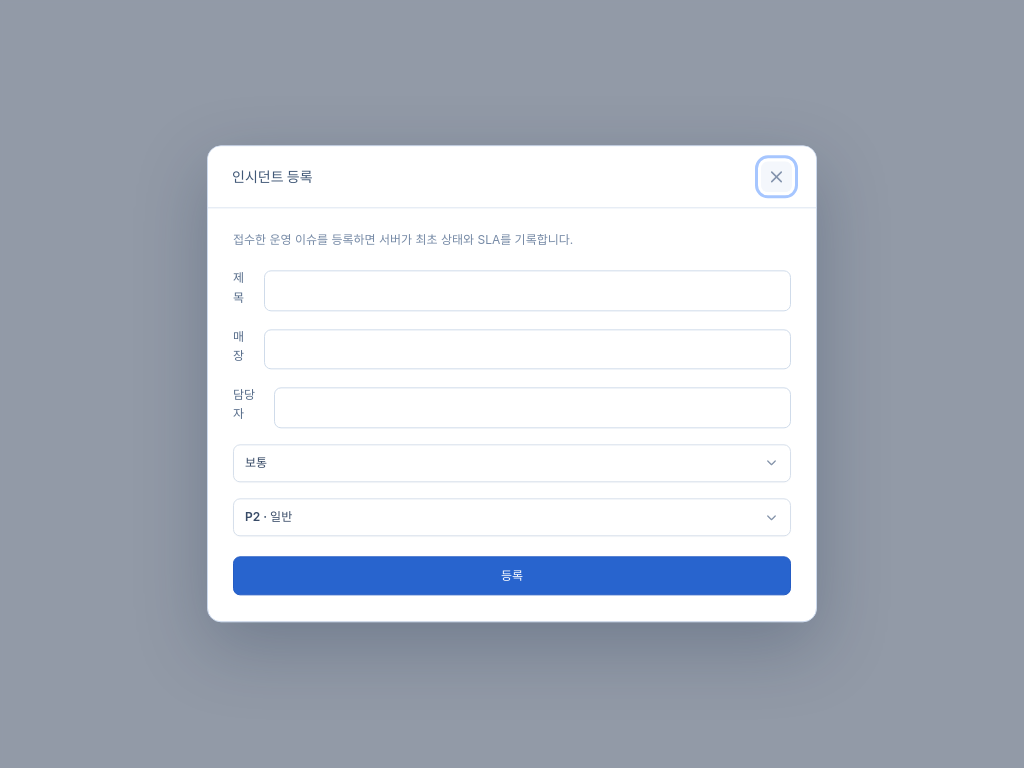
Test case: 인시던트 등록 팝업 › 형식이 잘못된 등록 성공 응답으로 상세 화면을 열지 않는다
Type "냉장고 온도 이슈" into the field labelled "제목".
click(527, 291); type("냉장고 온도 이슈")  # box [264,271,791,311]
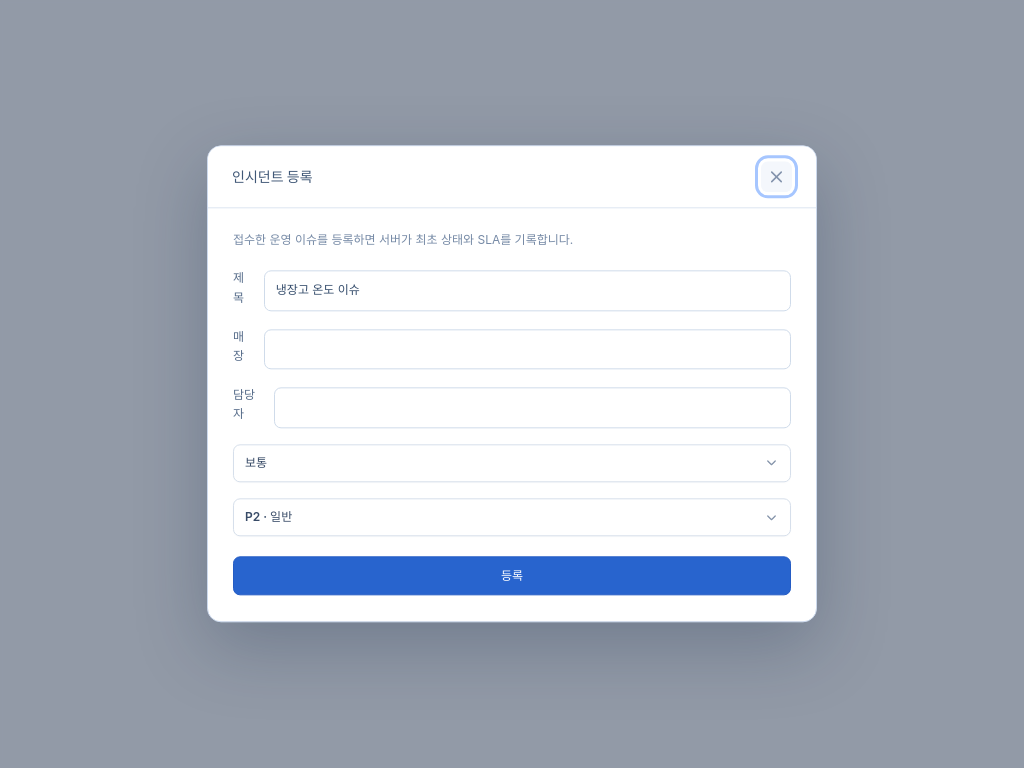
Type "강남점" into the field labelled "매장".
click(527, 349); type("강남점")  # box [264,329,791,370]
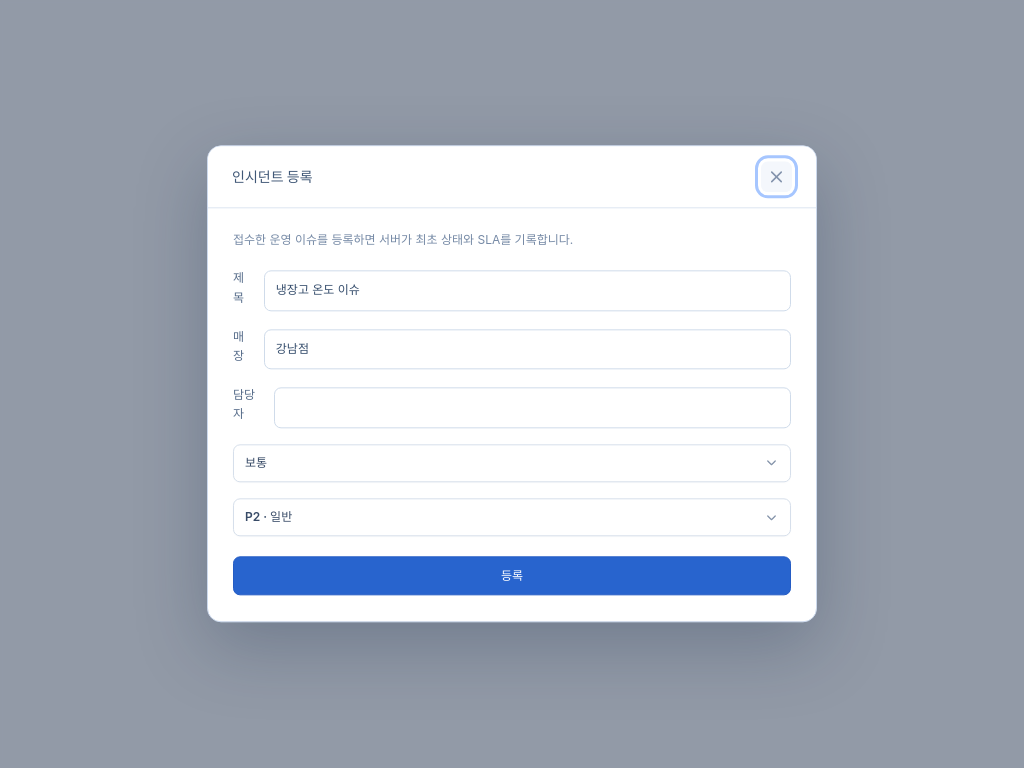
Type "운영 담당자" into the field labelled "담당자".
click(532, 408); type("운영 담당자")  # box [274,388,791,428]
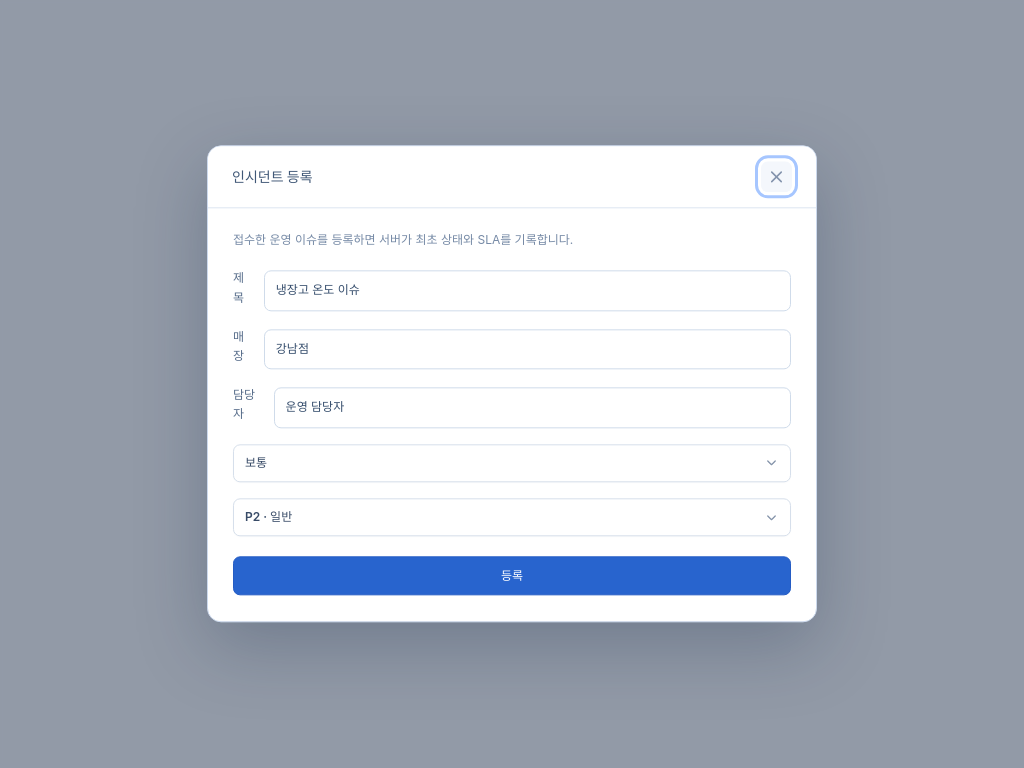
Click the button "등록".
click(512, 576)  # box [233,557,791,596]
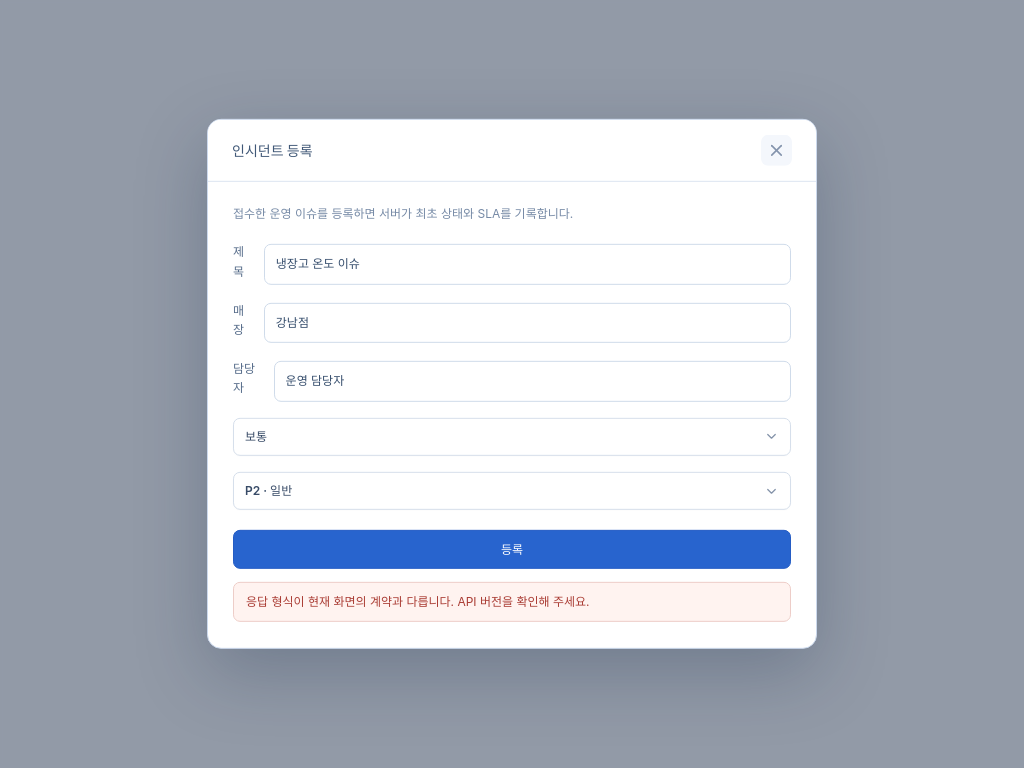
Expected: the message shows "응답 형식이 현재 화면의 계약과 다릅니다.", [246,594,590,609]
